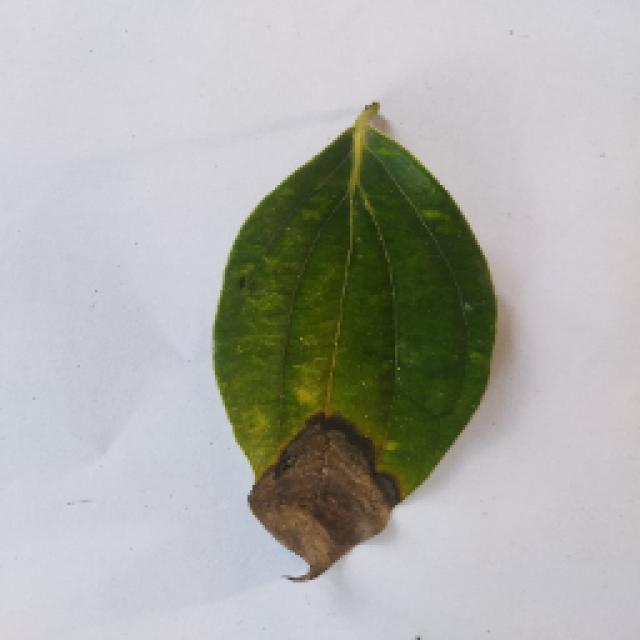footrot: (210, 102, 495, 572)
